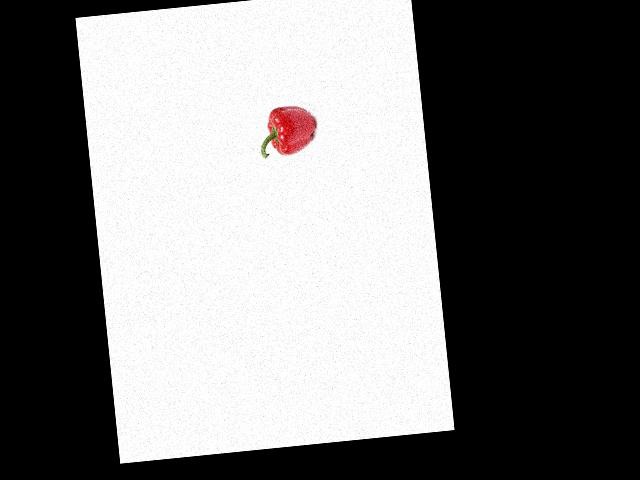bell_pepper: (255, 99, 319, 161)
